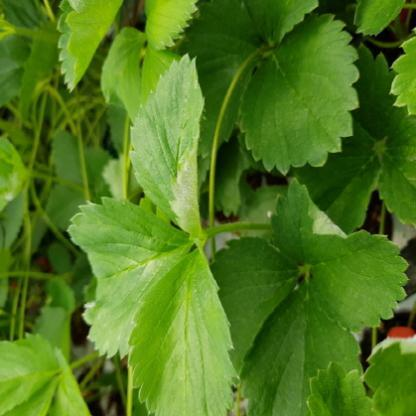Strawberry_Powdery_Mildew_Leaf: (128, 51, 206, 236)
